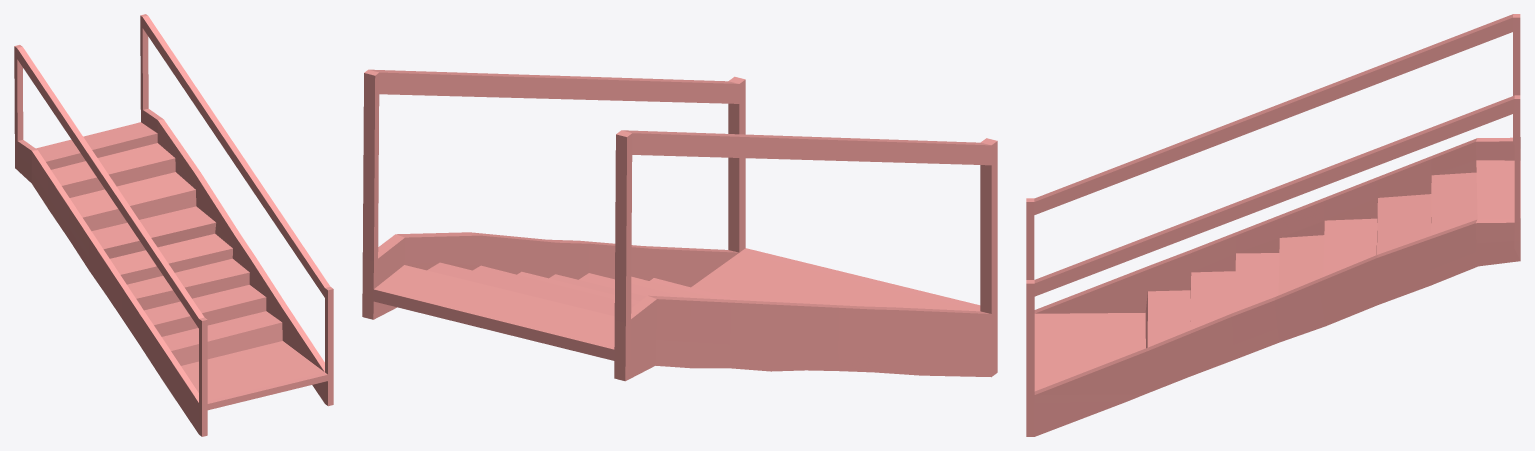
The model's file is Staircase.fbx.
The picture shows the model from 3 angles, left to right: view 1: azimuth 30°, elevation 25°; view 2: azimuth 150°, elevation 25°; view 3: azimuth 270°, elevation 25°; orthographic projection. The views are drawn at different scales.
Parts seen in each view (by area): view 1: pCube6; view 2: pCube6; view 3: pCube6.
Part boxes in pixels (bbox=[...]): pCube6: bbox=[14, 14, 333, 436]; pCube6: bbox=[362, 69, 997, 381]; pCube6: bbox=[1026, 14, 1520, 436].
Bounding box in the file's own units: 136 × 250 × 332.
1 material, 1 textured.
